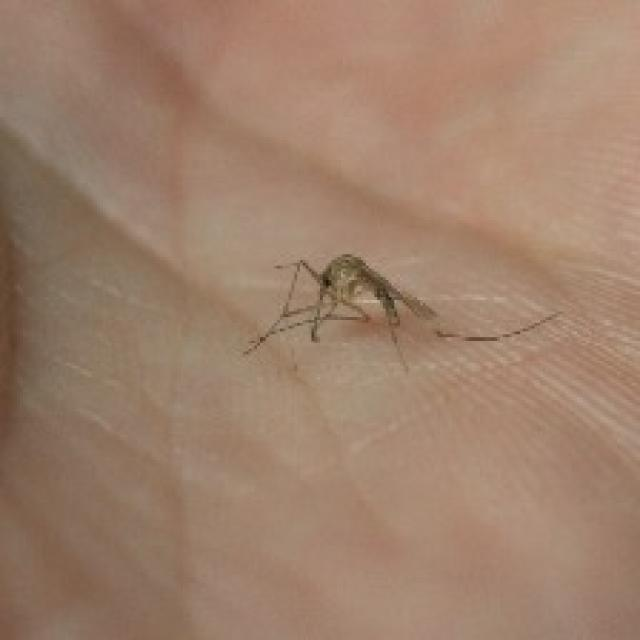culex: (240, 248, 560, 372)
